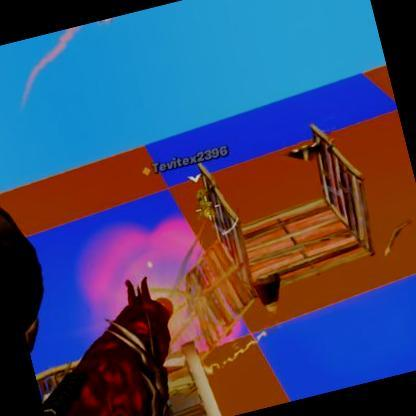person: (196, 186, 216, 225)
